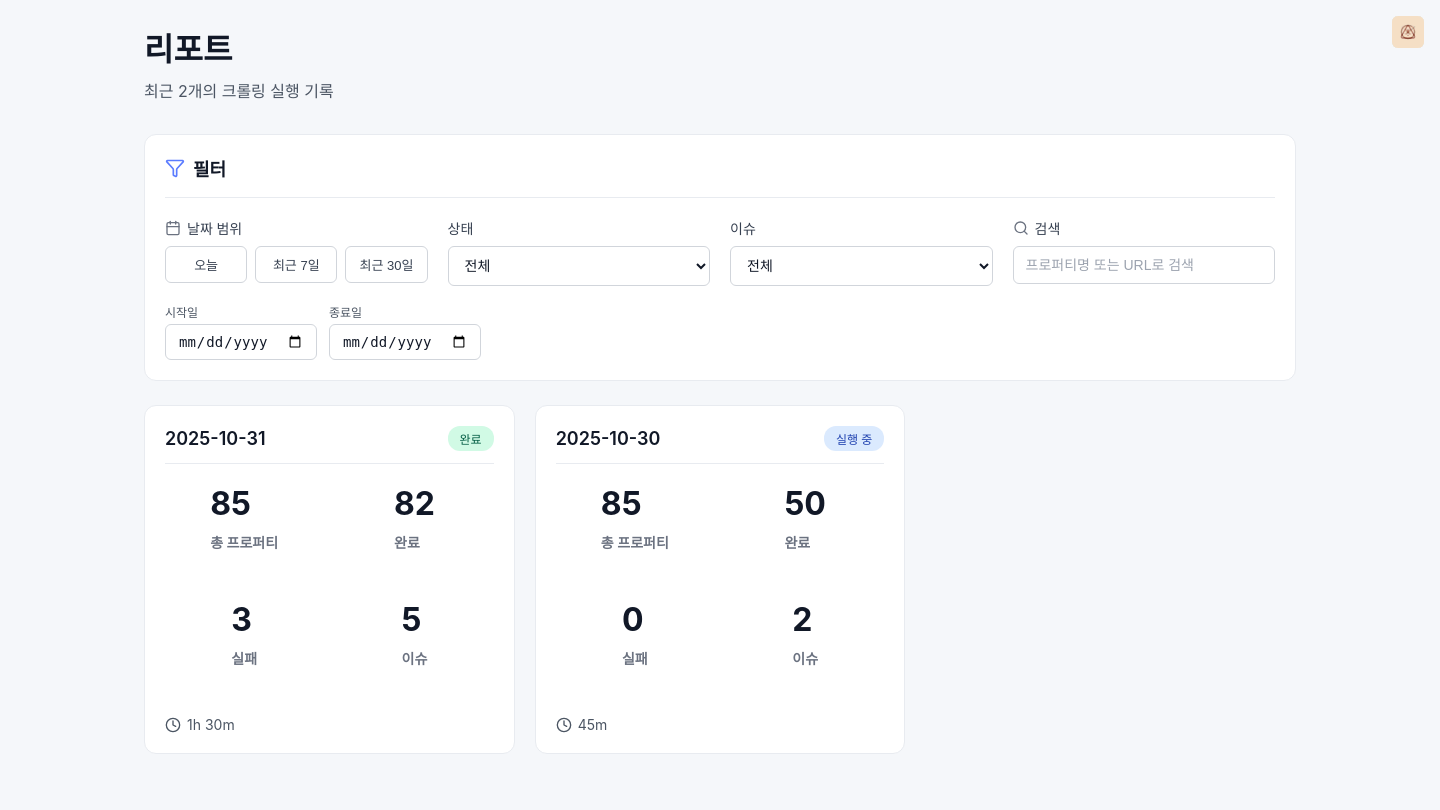
Reports Page - Task 1 › Task 2: Run Results Display › should fetch and display run results when a run is selected
Expected: the heading "2025-10-31" is shown, [165, 428, 266, 449]
// Click on first run card using the date text to find it
Click the button "2025-10-31": click(329, 445) [144, 405, 515, 754]
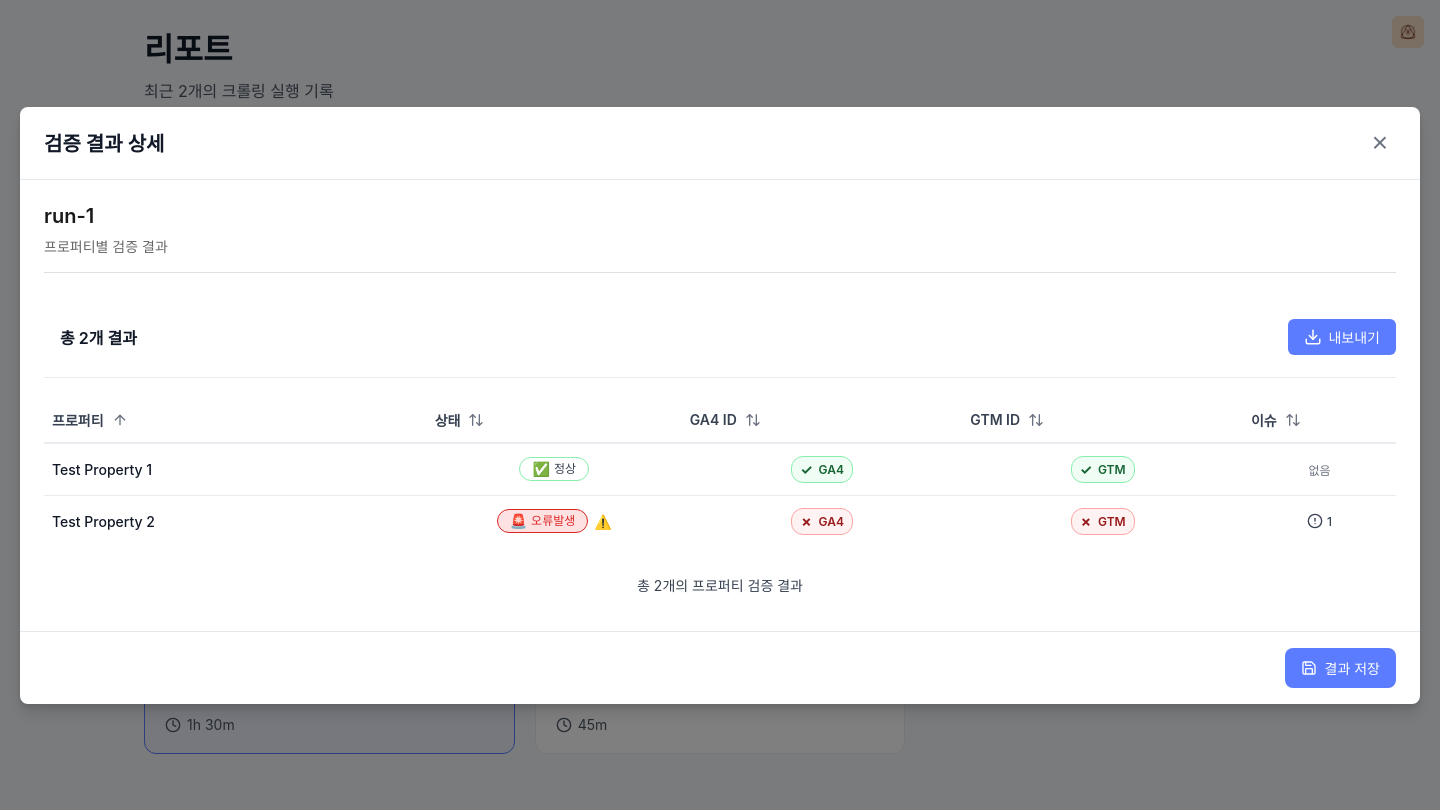
Expected: the heading "검증 결과 상세" is shown, [44, 128, 164, 157]
